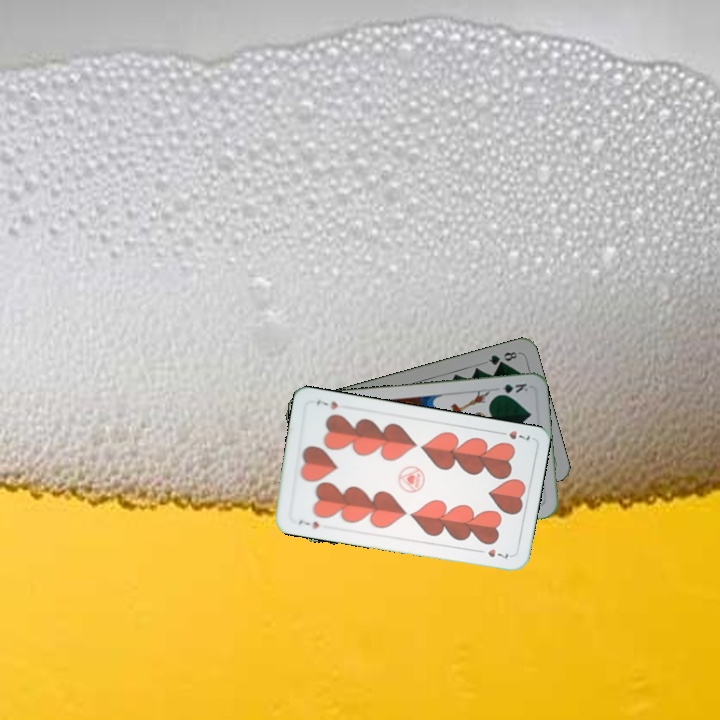G8: (485, 348, 522, 368)
GK: (491, 379, 530, 398)
H7: (494, 427, 532, 443), (295, 515, 322, 531)
